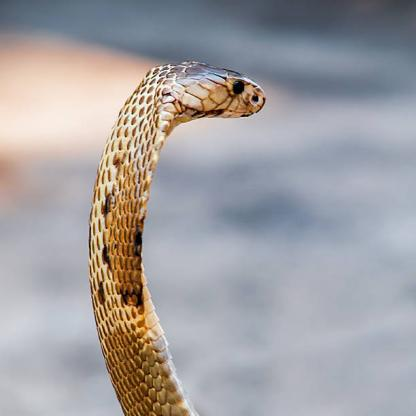Snake: (83, 55, 269, 416)
